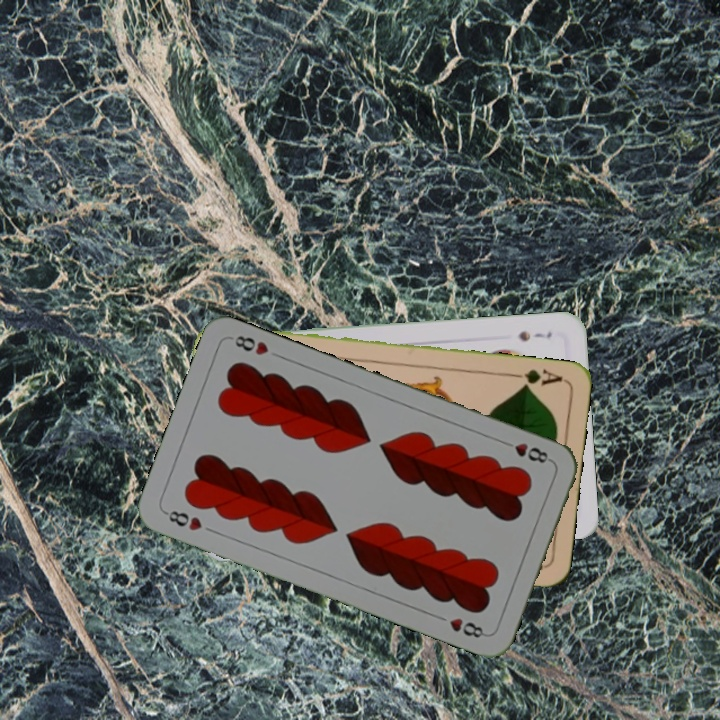GA: (507, 365, 565, 391)
H8: (497, 436, 554, 466), (160, 506, 205, 534)
S7: (514, 327, 554, 344)
